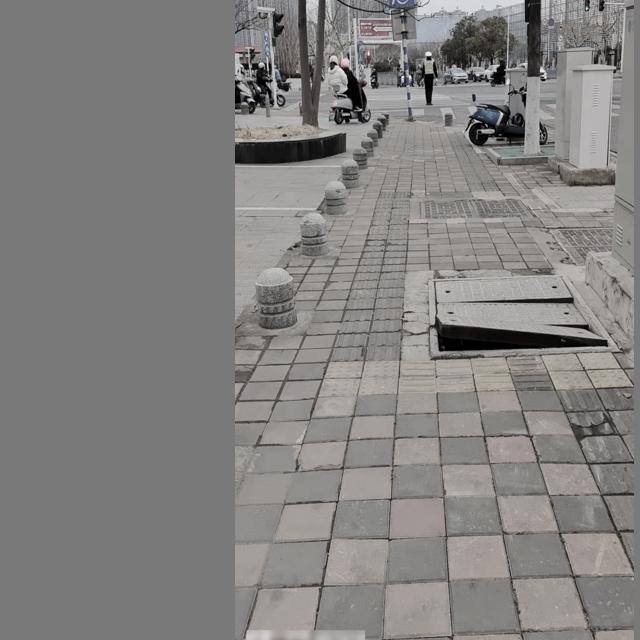good: (415, 193, 539, 225)
uncovered: (427, 268, 624, 358)
